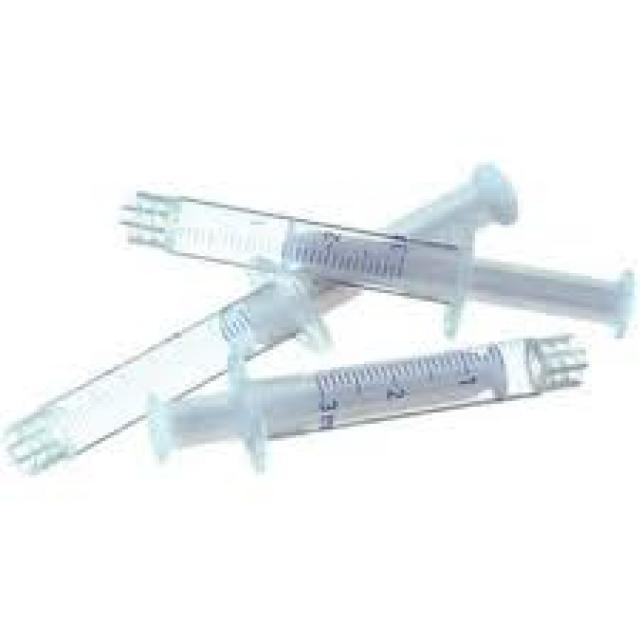syringe: (110, 133, 522, 520)
